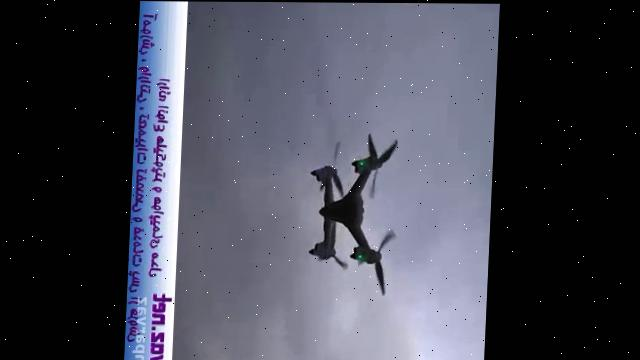drone: (308, 127, 404, 297)
